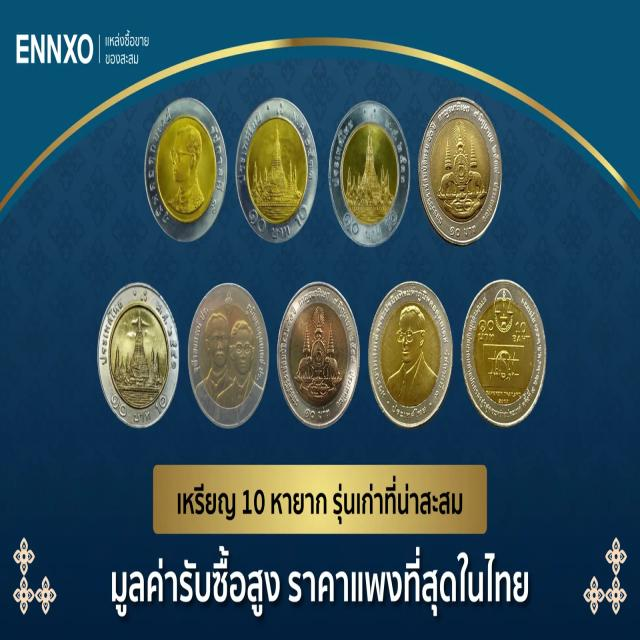10 Bath: (143, 96, 231, 246), (278, 280, 362, 433), (236, 95, 320, 246), (370, 282, 455, 430), (420, 97, 502, 245), (99, 282, 181, 429), (330, 102, 411, 248)
